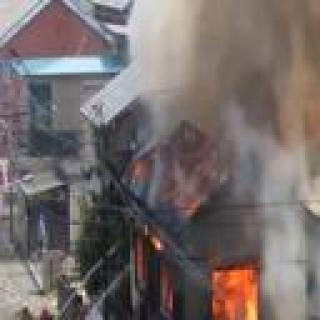fire: (99, 175, 320, 320)
